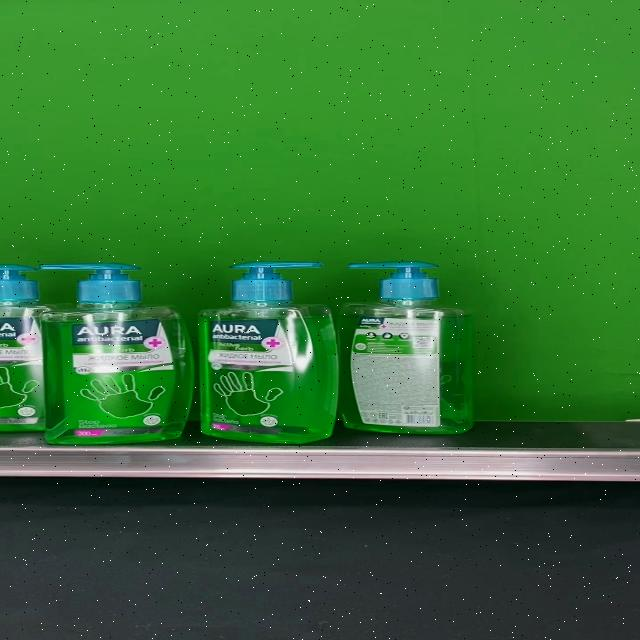Bottle: (40, 264, 196, 444), (197, 261, 339, 443), (338, 260, 473, 434)
Cap: (228, 260, 324, 302), (41, 263, 142, 301), (348, 260, 441, 300)
